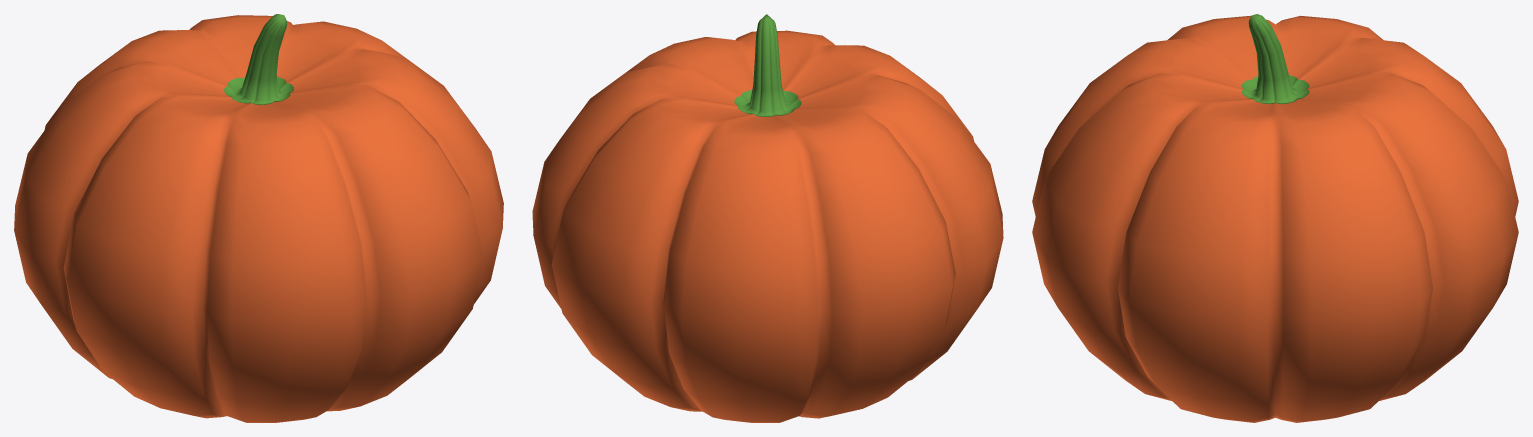
File: тыква1.fbx
The picture shows the model from 3 angles, left to right: view 1: azimuth 30°, elevation 25°; view 2: azimuth 150°, elevation 25°; view 3: azimuth 270°, elevation 25°; orthographic projection. The views are drawn at different scales.
Parts seen in each view (by area): view 1: Cylinder; view 2: Cylinder; view 3: Cylinder.
Boxes of the visible parts, bbox=[...] form: Cylinder: bbox=[14, 14, 503, 422]; Cylinder: bbox=[532, 14, 1003, 422]; Cylinder: bbox=[1032, 14, 1518, 422].
Size of the model in its own units: 260 by 215 by 260.
